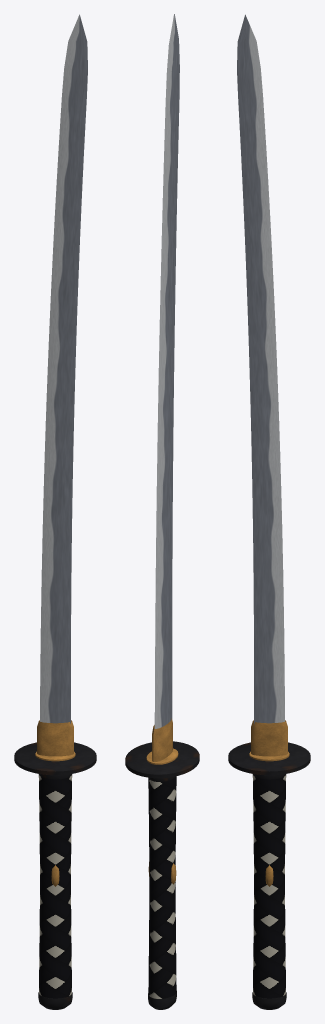
File: player_katana.glb
3 views of the same model, side by side, from view 1: azimuth 90°, elevation 25°; view 2: azimuth 150°, elevation 25°; view 3: azimuth 270°, elevation 25° (orthographic).
Parts seen in each view (by area): view 1: Katana; view 2: Katana; view 3: Katana.
Boxes of the visible parts, x1,y1,x2,y2 form: Katana: [14, 14, 96, 1009]; Katana: [125, 14, 199, 1009]; Katana: [228, 14, 310, 1009].
Bounding box in the file's own units: 0.0722 × 1.09 × 0.082.
Materials: 4 (4 with a texture image).
